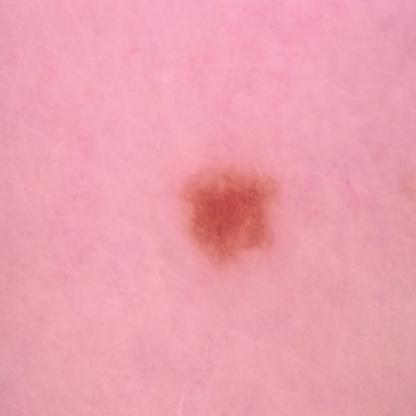benign: (176, 164, 292, 270)
